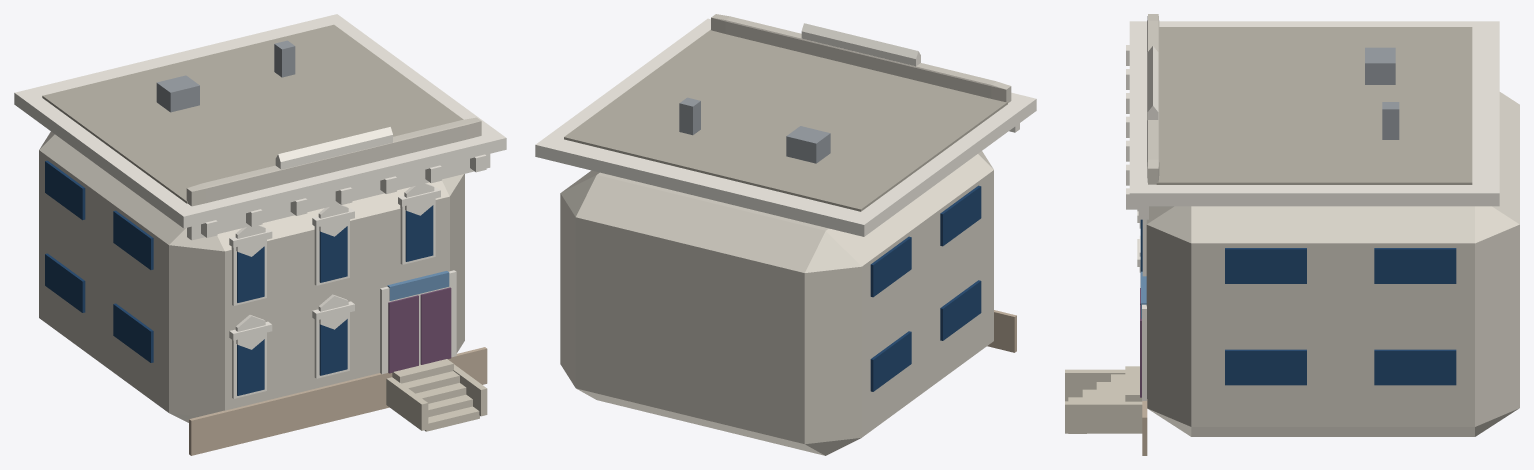
Rendered from ital_w11_flat.glb.
3 views of the same model, side by side, from view 1: azimuth 30°, elevation 25°; view 2: azimuth 150°, elevation 25°; view 3: azimuth 270°, elevation 25° (orthographic). The views are drawn at different scales.
Visible parts, largest first — view 1: walls, roofslab, corn, bsmt, fparapet, frieze, door.001, door, dfr, sb, sb.002, sb.006 (+28 smaller); view 2: walls, roofslab, corn, fparapet, sb.006, sb, sb.002, sb.004, hvac, roof, pcap, bsmt (+1 smaller); view 3: walls, roofslab, corn, sb.003, sb.001, sb.007, sb.005, cheek.001, fparapet, hvac, cheek, roof (+3 smaller).
Boxes of the visible parts, <box> form: walls: <box>39,131,464,422</box>; roofslab: <box>42,24,463,203</box>; corn: <box>14,14,506,228</box>; bsmt: <box>189,347,487,455</box>; fparapet: <box>186,117,481,206</box>; frieze: <box>187,154,490,240</box>; door.001: <box>420,287,451,364</box>; door: <box>388,295,418,373</box>; dfr: <box>380,270,456,374</box>; sb: <box>113,303,153,362</box>; sb.002: <box>45,253,85,312</box>; sb.006: <box>45,160,85,220</box>; walls: <box>560,151,993,455</box>; roofslab: <box>564,29,1007,211</box>; corn: <box>535,18,1036,236</box>; fparapet: <box>711,14,1011,102</box>; sb.006: <box>870,236,911,297</box>; sb: <box>940,280,981,340</box>; sb.002: <box>870,331,911,391</box>; sb.004: <box>940,185,981,246</box>; hvac: <box>786,126,830,163</box>; roof: <box>801,23,920,58</box>; pcap: <box>801,31,920,66</box>; bsmt: <box>987,310,1016,352</box>; walls: <box>1146,92,1519,436</box>; roofslab: <box>1156,27,1472,184</box>; corn: <box>1129,21,1499,206</box>; sb.003: <box>1374,349,1456,385</box>; sb.001: <box>1225,349,1306,385</box>; sb.007: <box>1374,248,1456,283</box>; sb.005: <box>1225,248,1306,283</box>; cheek.001: <box>1065,401,1142,433</box>; fparapet: <box>1147,14,1159,184</box>; hvac: <box>1365,47,1395,84</box>; cheek: <box>1065,369,1125,401</box>; roof: <box>1147,46,1158,112</box>.
Bounding box in the file's own units: 12 × 9.85 × 13.4.
